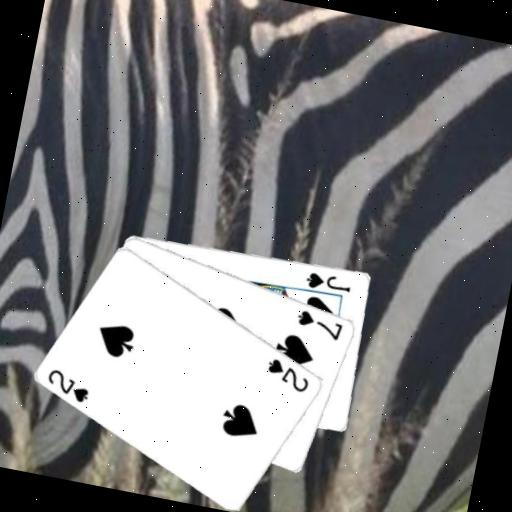2S: (41, 364, 95, 406), (261, 354, 315, 395)
7S: (292, 306, 347, 344)
JS: (302, 267, 354, 296)
